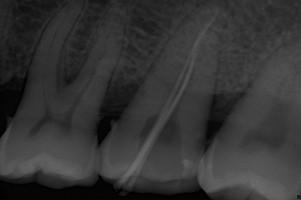Endo-Periodontal Lesion: (61, 73, 77, 85)
